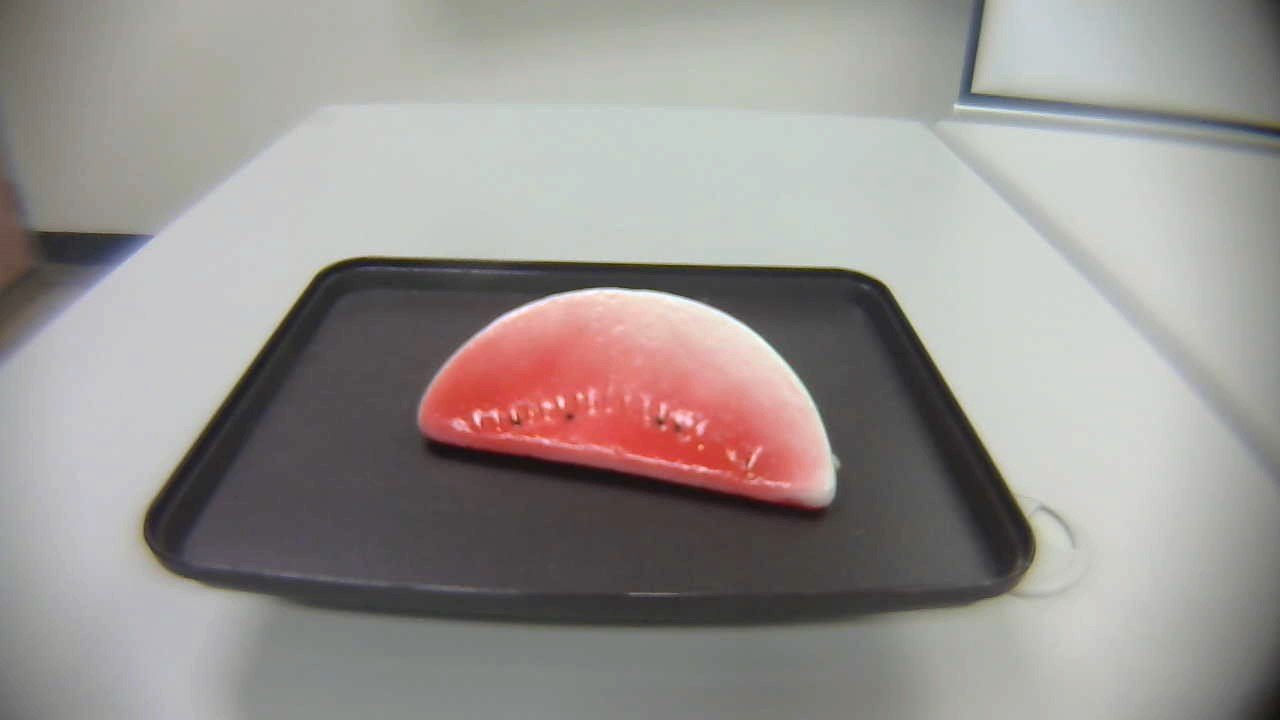water melon: (402, 284, 854, 532)
